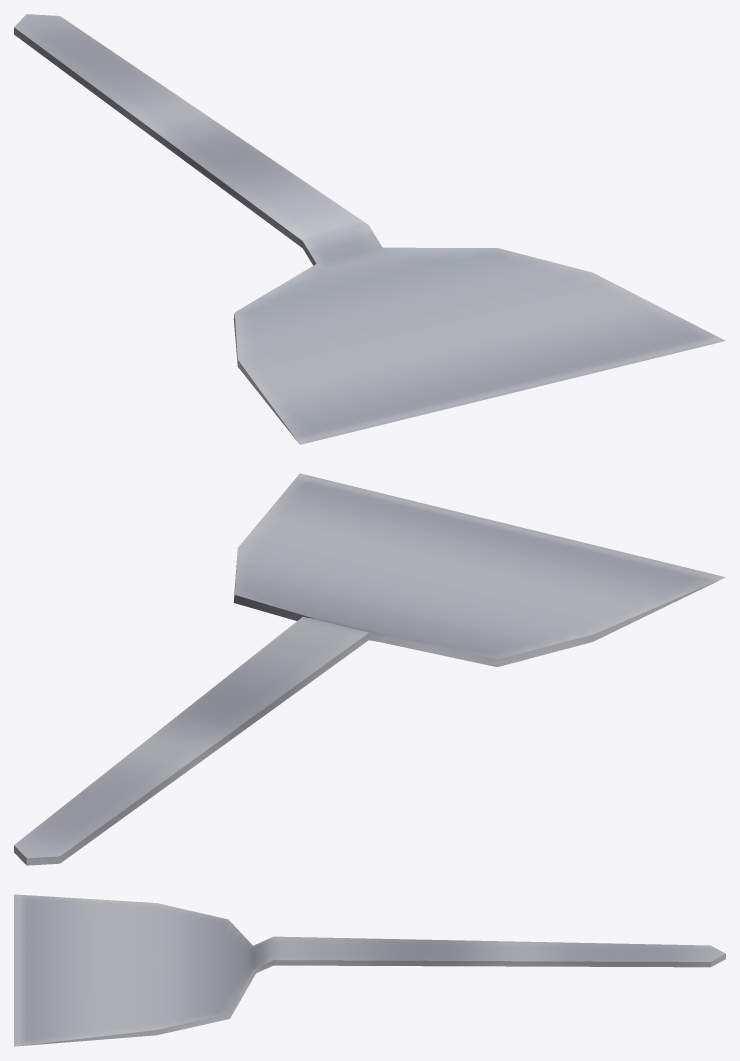
File: jsf_Spatula_03.fbx
3 renders of one model, top to bottom at view 1: azimuth 30°, elevation 25°; view 2: azimuth 150°, elevation 25°; view 3: azimuth 270°, elevation 25°, orthographic. The views are drawn at different scales.
Parts seen in each view (by area): view 1: jsf_Spatula_03; view 2: jsf_Spatula_03; view 3: jsf_Spatula_03.
Part boxes in pixels (<box>): jsf_Spatula_03: <box>14,14,725,444</box>; jsf_Spatula_03: <box>14,473,725,865</box>; jsf_Spatula_03: <box>14,894,725,1046</box>.
Size of the model in its own units: 12.28 by 0.8818 by 24.28.
